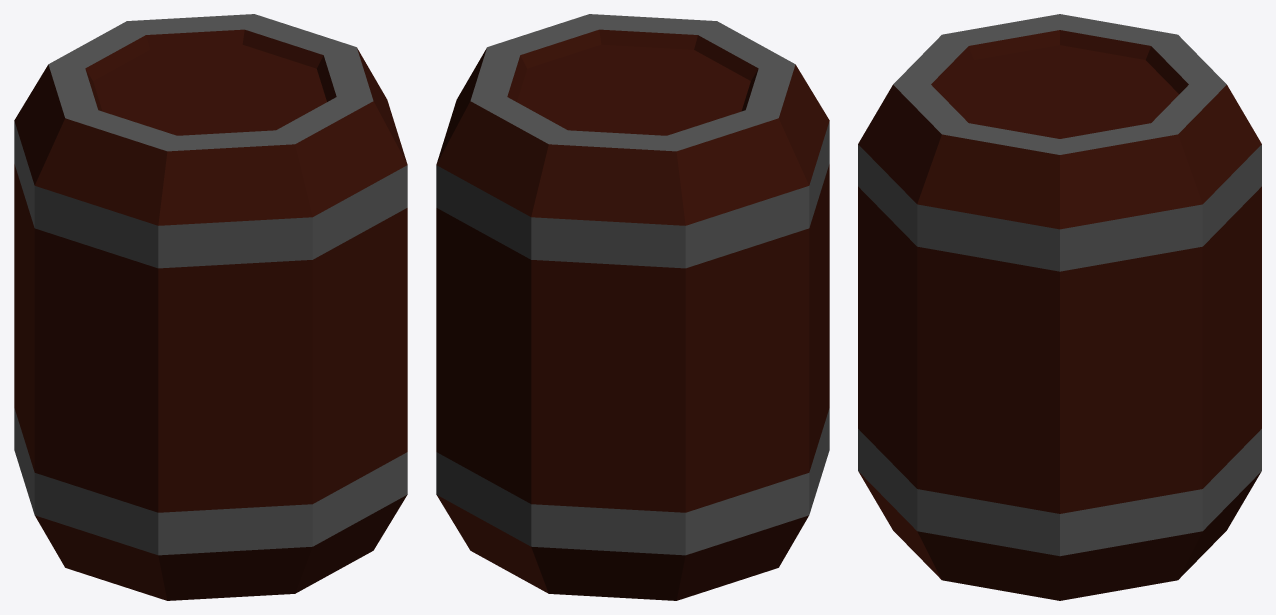
The model's file is barrel_1.obj.
The picture shows the model from 3 angles, left to right: view 1: azimuth 30°, elevation 25°; view 2: azimuth 150°, elevation 25°; view 3: azimuth 270°, elevation 25°; orthographic projection.
Visible parts, largest first — view 1: barrel_1; view 2: barrel_1; view 3: barrel_1.
Boxes of the visible parts, x1,y1,x2,y2 form: barrel_1: (14,14,407,600); barrel_1: (436,14,829,600); barrel_1: (858,14,1261,600).
Bounding box in the file's own units: 0.285 × 0.3471 × 0.285.
